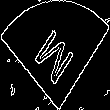M_SW: (31, 21, 79, 89)
